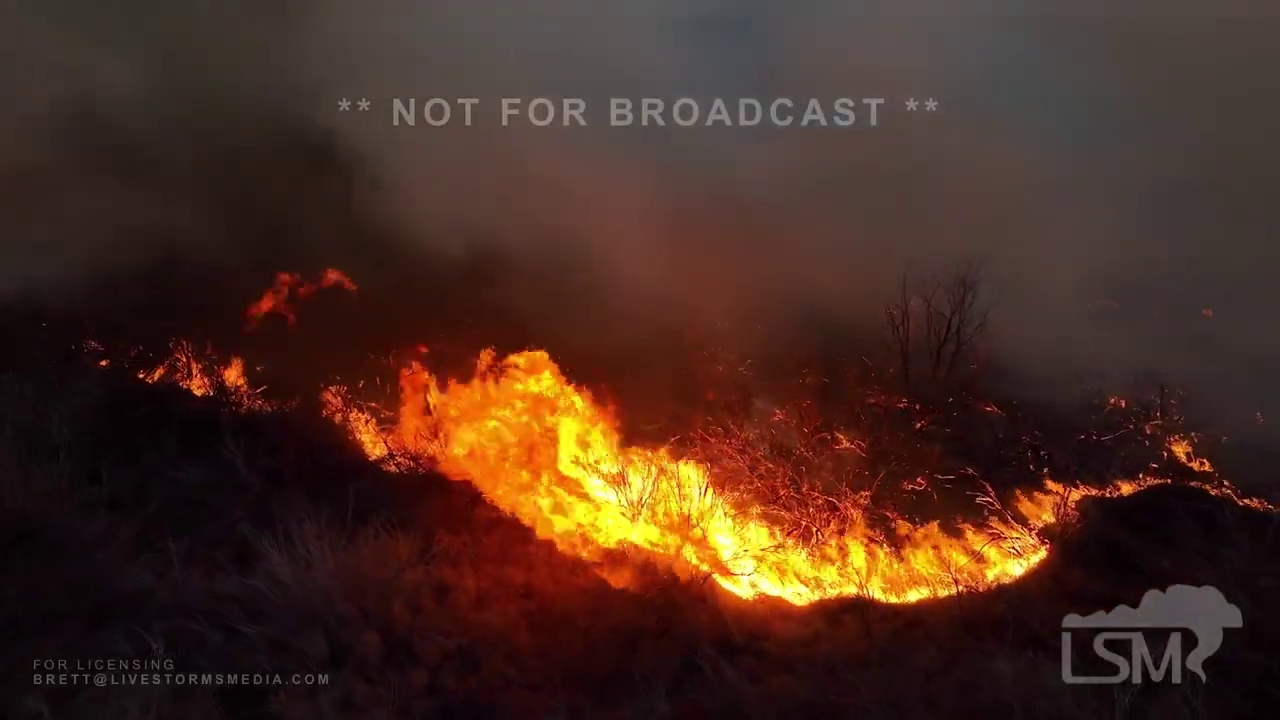forest_fire: (320, 351, 1166, 605), (140, 345, 270, 409), (1167, 436, 1212, 472)
